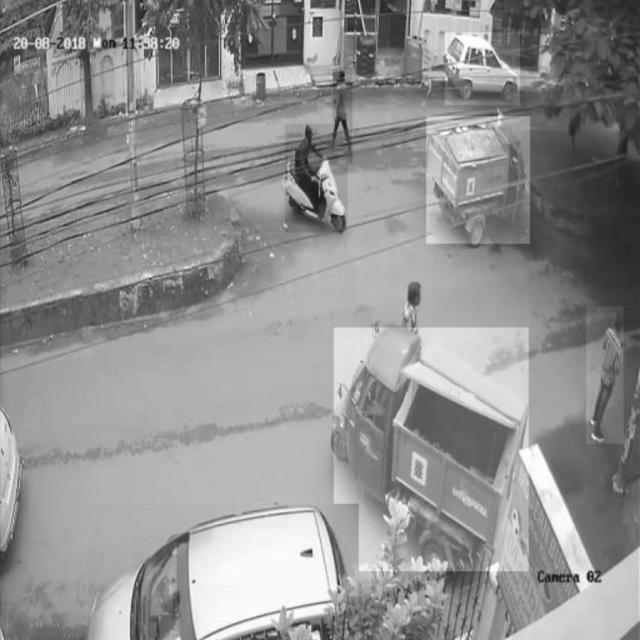person: (588, 307, 625, 444), (333, 68, 353, 164)
vehicle: (334, 328, 529, 571), (89, 504, 359, 638), (427, 116, 530, 244), (285, 124, 349, 232), (446, 33, 520, 106)
